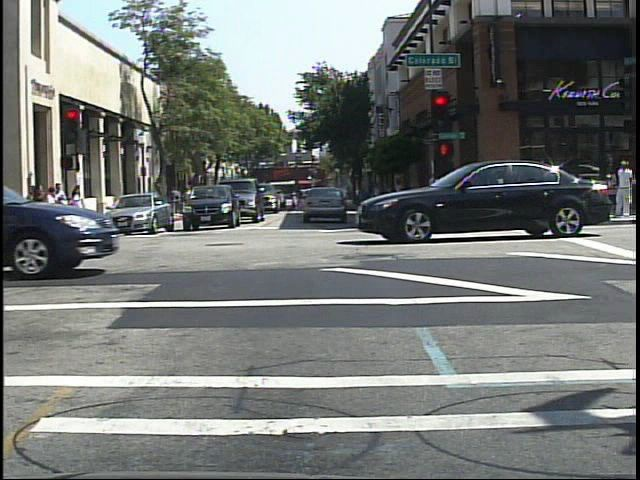person: (612, 157, 638, 222), (170, 184, 183, 216)
